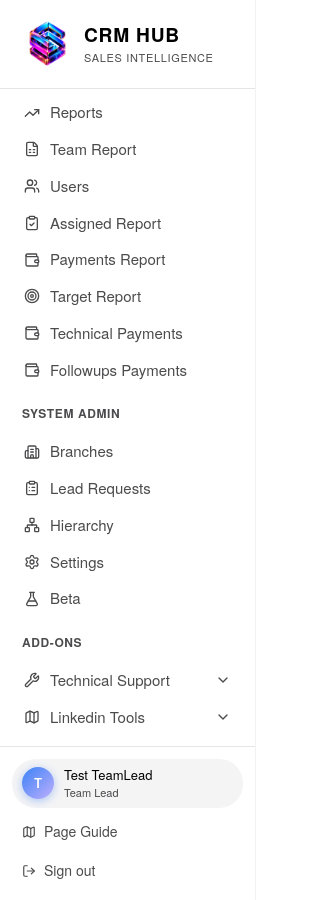
Test: Navigation Component › TeamLead sees all components › should show all navigation items for teamLead
(page scrolled)
Check: the text "Users" is shown, box [50,177,89,196]
Check: the text "Settings" is shown, box [50,552,104,571]
Click the button "Technical Support" at (128, 680), box [10,662,245,699]
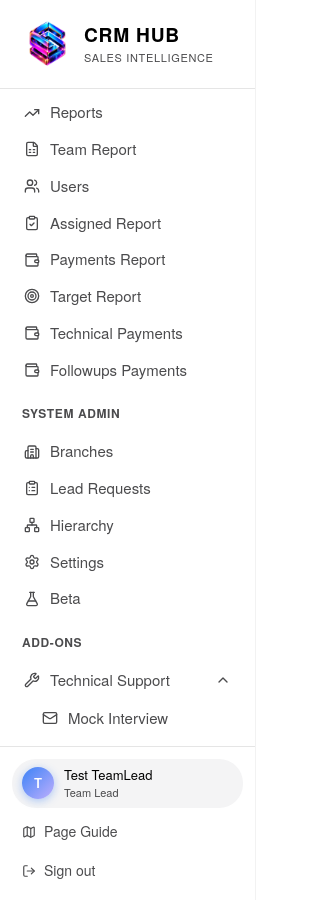
Check: the text "Mock Interview" is shown, box [68,709,168,728]
